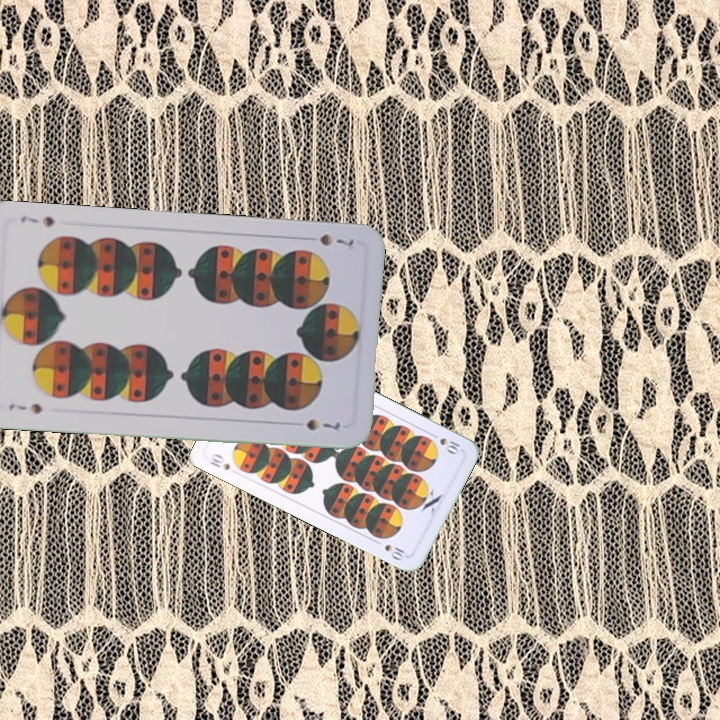S10: (427, 429, 464, 457), (206, 449, 232, 473)
S7: (315, 230, 357, 252), (5, 399, 45, 417)
